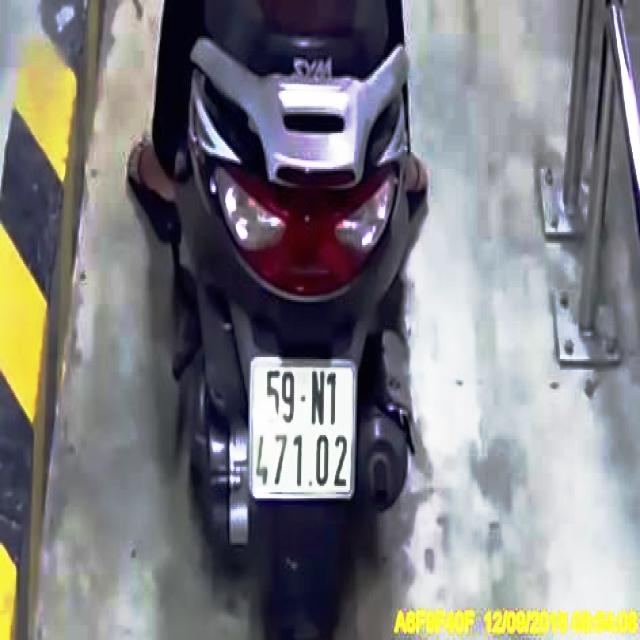license_plate: (251, 356, 358, 499)
